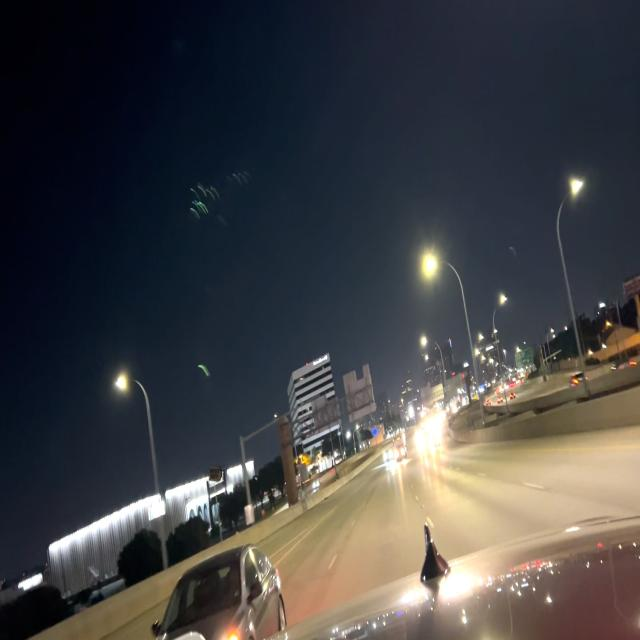back-of-sign: (343, 364, 377, 421), (311, 391, 341, 431)
